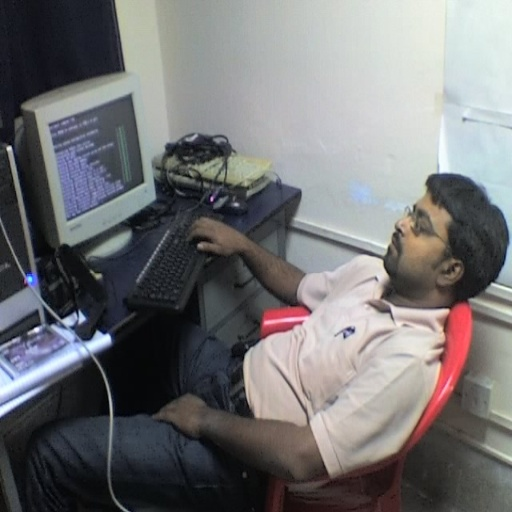hand: (158, 396, 228, 451), (182, 214, 243, 259)
